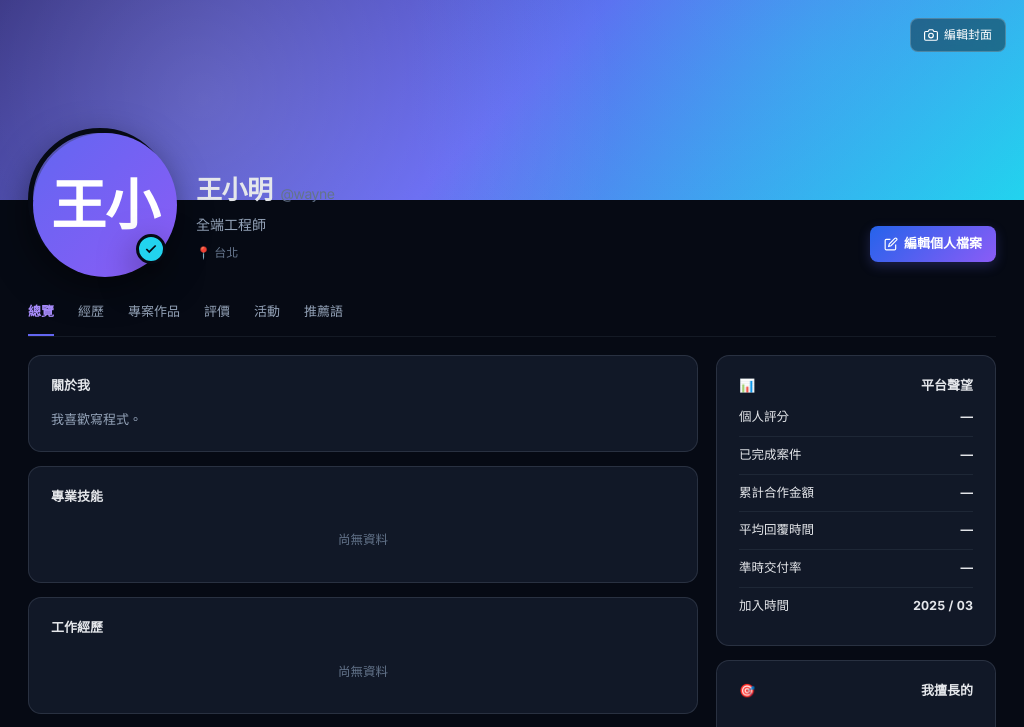
ProfilePage — own edit › shows the conflict message when the API returns HANDLE_TAKEN
Step 1. Click the button "編輯個人檔案" → (933, 244), box left=870, top=226, right=996, bottom=262
(page scrolled)
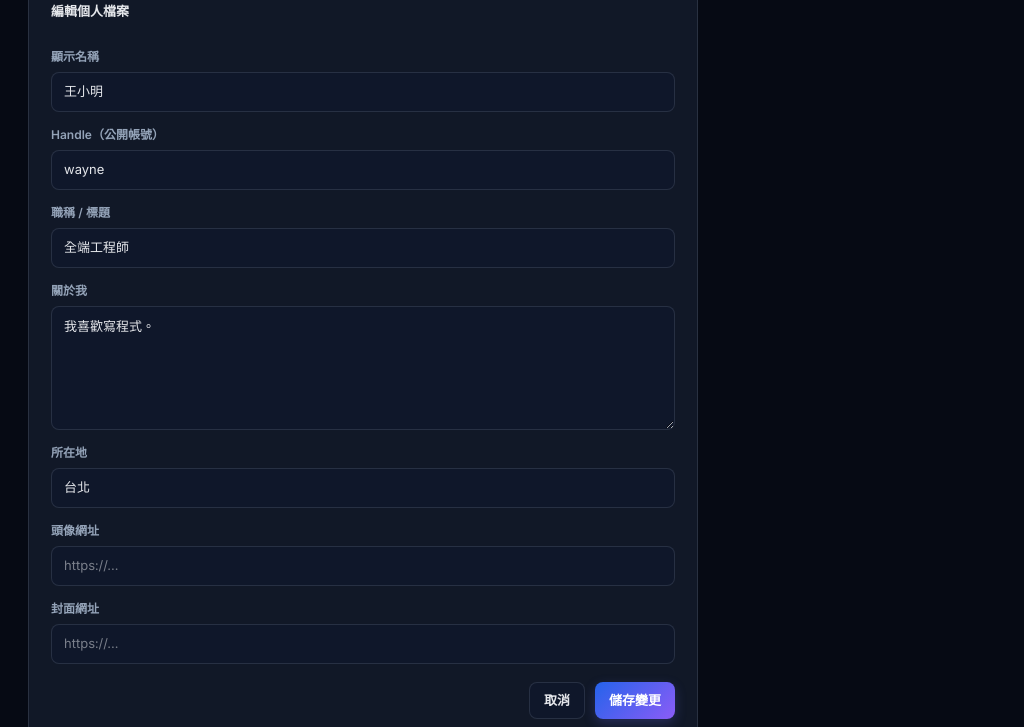
Step 2. Click the button "儲存變更" → (635, 701), box left=595, top=682, right=675, bottom=720
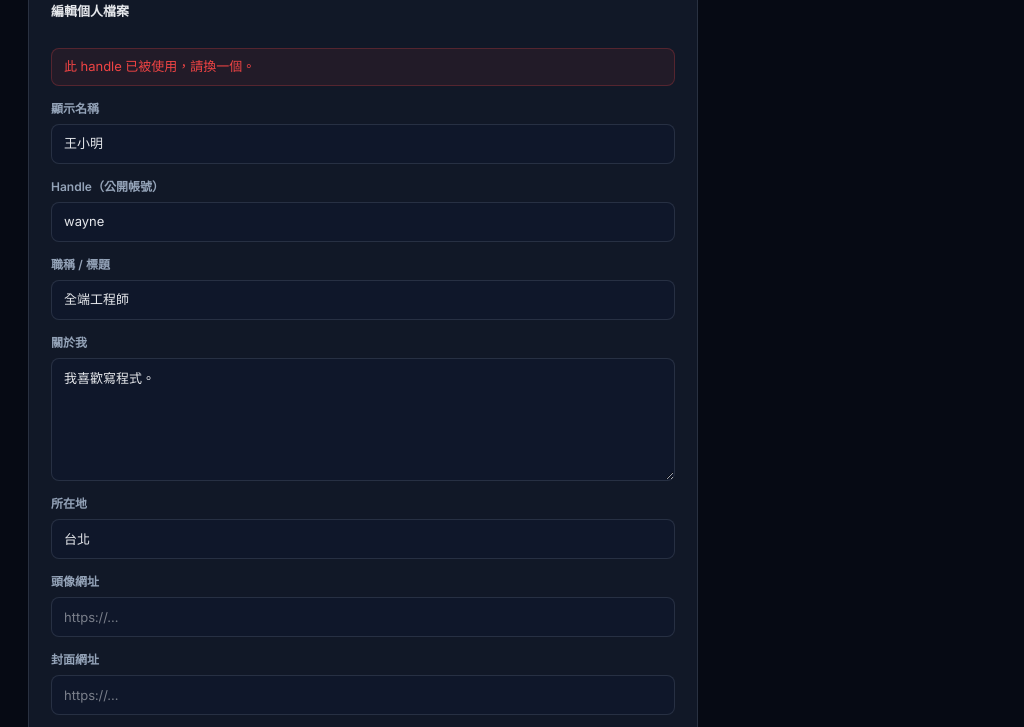
Expected: the text "此 handle 已被使用，請換一個。" is shown, left=51, top=48, right=675, bottom=86
